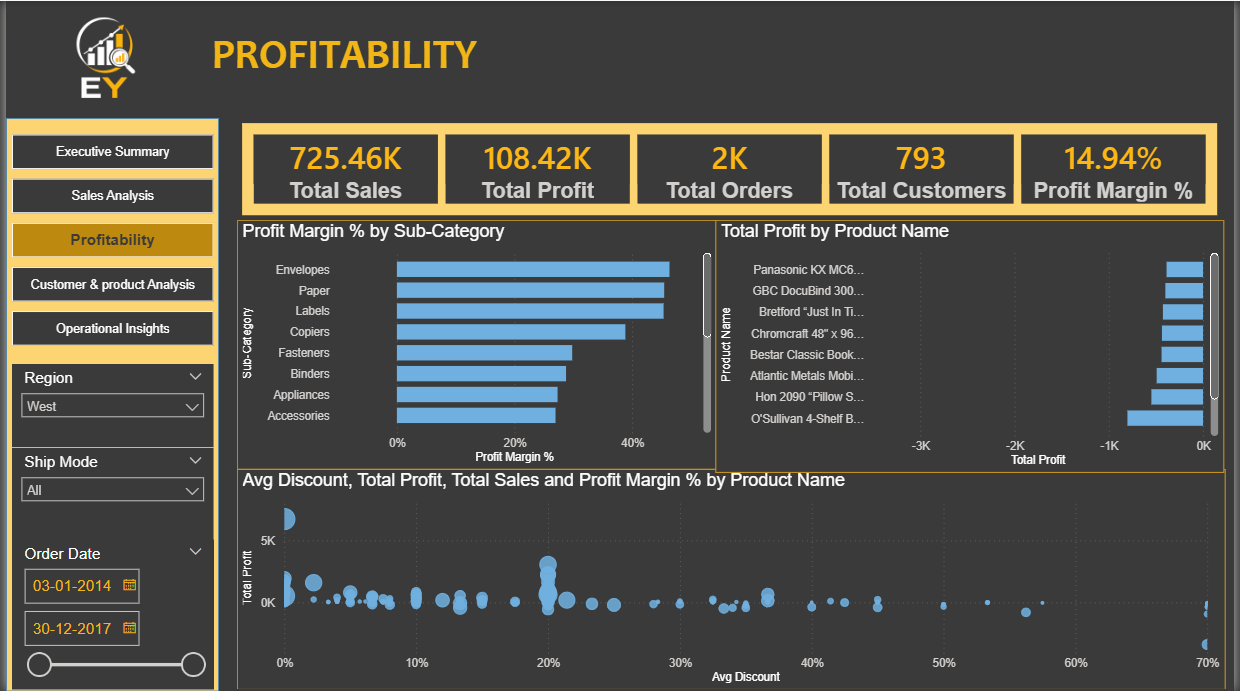

This screenshot's page, from the dashboard's own definition file:
{"tool":"powerbi","page":{"name":"Profitability","canvas":[1280,720],"ordinal":2},"visuals":[{"type":"textbox","box":[209.4,23.4,1059.7,75],"z":0},{"type":"shape","box":[0,121.9,221.9,598.6],"z":1000},{"type":"cardVisual","fields":{"Data":["Data.Total Sales","Data.Total Profit","Data.Total Orders","Customer.Total Customers","Data.Profit Margin %"]},"box":[240,121.7,1030,106.7],"z":2000},{"type":"image","box":[0,0,200.1,121.9],"z":3000},{"type":"scatterChart","fields":{"Y":["Data.Total Profit"],"Category":["Product.Product Name"],"X":["Data.Avg Discount"],"Size":["Data.Total Sales"]},"box":[240,488.3,1030,230],"z":4000},{"type":"clusteredBarChart","fields":{"Category":["Product.Sub-Category"],"Y":["Data.Profit Margin %"]},"box":[240,228.3,500,260],"z":5000},{"type":"barChart","fields":{"Y":["Data.Total Profit"],"Category":["Product.Product Name"]},"box":[740,228.3,530,263.3],"z":6000},{"type":"pageNavigator","box":[6.7,138.3,210,221.7],"z":7000},{"type":"slicer","fields":{"Values":["Location.Region"]},"box":[6.7,378.3,210,86.7],"z":8000},{"type":"slicer","fields":{"Values":["ShipMode.Ship Mode"]},"box":[6.7,465,210,96.7],"z":9000},{"type":"slicer","fields":{"Values":["Data.Order Date"]},"box":[6.7,561.7,210,156.7],"z":10000}]}

Visuals, with their boxes in screenshot pixels (x1, y1, x2, y2), scaled from the page's 1280x720 canvas onto the 1240x691 screenshot:
textbox: BBox(203, 22, 1229, 94)
shape: BBox(0, 117, 215, 690)
cardVisual - Data.Total Sales x Data.Total Profit: BBox(232, 117, 1230, 219)
image: BBox(0, 0, 194, 117)
scatterChart - Data.Total Profit x Product.Product Name: BBox(232, 469, 1230, 689)
clusteredBarChart - Product.Sub-Category x Data.Profit Margin %: BBox(232, 219, 717, 469)
barChart - Data.Total Profit x Product.Product Name: BBox(717, 219, 1230, 472)
pageNavigator: BBox(6, 133, 210, 346)
slicer - Location.Region: BBox(6, 363, 210, 446)
slicer - ShipMode.Ship Mode: BBox(6, 446, 210, 539)
slicer - Data.Order Date: BBox(6, 539, 210, 689)
